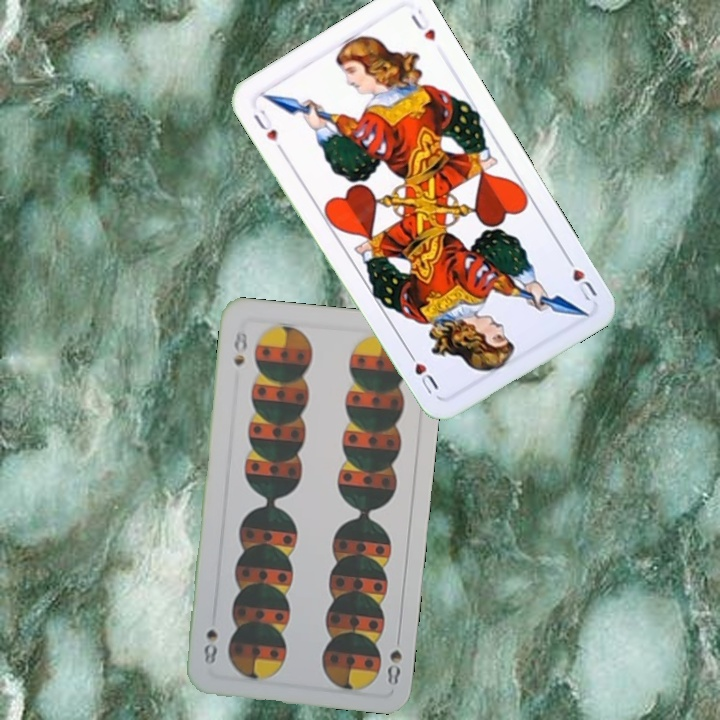HU: (561, 250, 600, 304), (249, 105, 287, 155)
S8: (383, 629, 404, 687), (229, 327, 250, 369)
